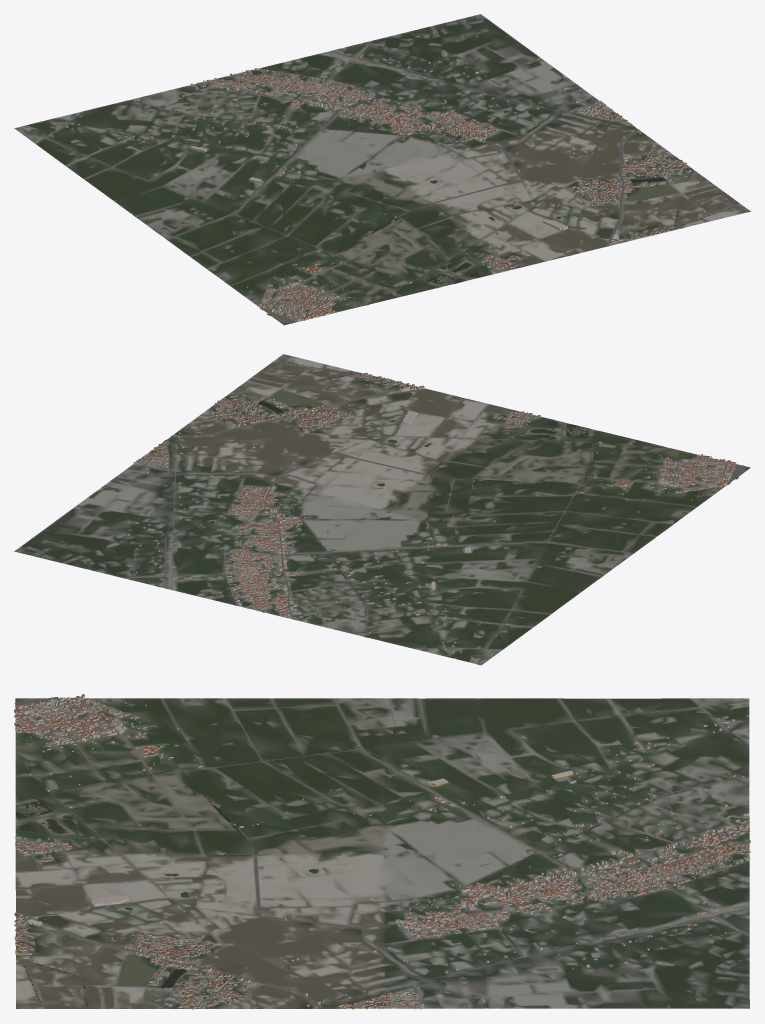
3 views of the same model, one above another, from view 1: azimuth 30°, elevation 25°; view 2: azimuth 150°, elevation 25°; view 3: azimuth 270°, elevation 25° (orthographic). The views are drawn at different scales.
Parts seen in each view (by area): view 1: ground, buildings, roads, water; view 2: ground, buildings, roads, water; view 3: ground, buildings, roads, water.
Part boxes in pixels (x1,y1,x2,y2): ground: (14,14,750,325); buildings: (40,47,691,321); roads: (16,41,733,323); water: (25,52,732,287); ground: (14,354,750,665); buildings: (100,373,736,658); roads: (116,363,743,663); water: (113,362,595,660); ground: (15,698,749,1008); buildings: (14,694,750,1009); roads: (14,697,749,1008); water: (16,702,748,1008).
Bounding box in the file's own units: 2823 × 25.5 × 2816.
